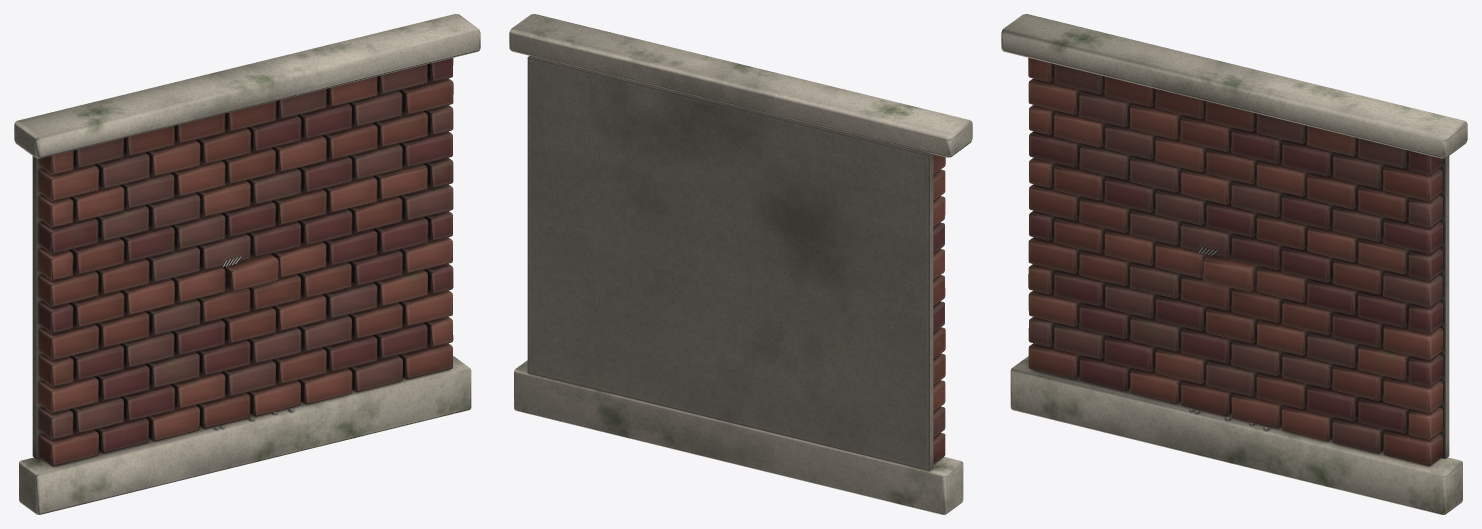
File: LooseBrick.fbx
3 renders of one model, left to right at view 1: azimuth 30°, elevation 25°; view 2: azimuth 150°, elevation 25°; view 3: azimuth 330°, elevation 25°, orthographic.
Visible parts, largest first — view 1: LooseBrick_Main, LooseBrick_Brick0; view 2: LooseBrick_Main; view 3: LooseBrick_Main, LooseBrick_Brick0.
Part boxes in pixels (bbox=[...]): LooseBrick_Main: bbox=[14, 14, 480, 514]; LooseBrick_Brick0: bbox=[221, 254, 278, 291]; LooseBrick_Main: bbox=[509, 14, 972, 514]; LooseBrick_Main: bbox=[1001, 14, 1467, 514]; LooseBrick_Brick0: bbox=[1203, 254, 1260, 291].
Size of the model in its own units: 440 by 362 by 42.
